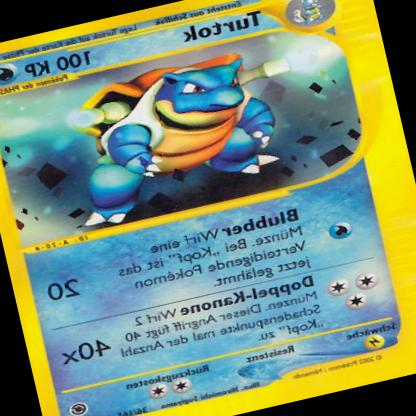Blastoise: (47, 34, 317, 233)
